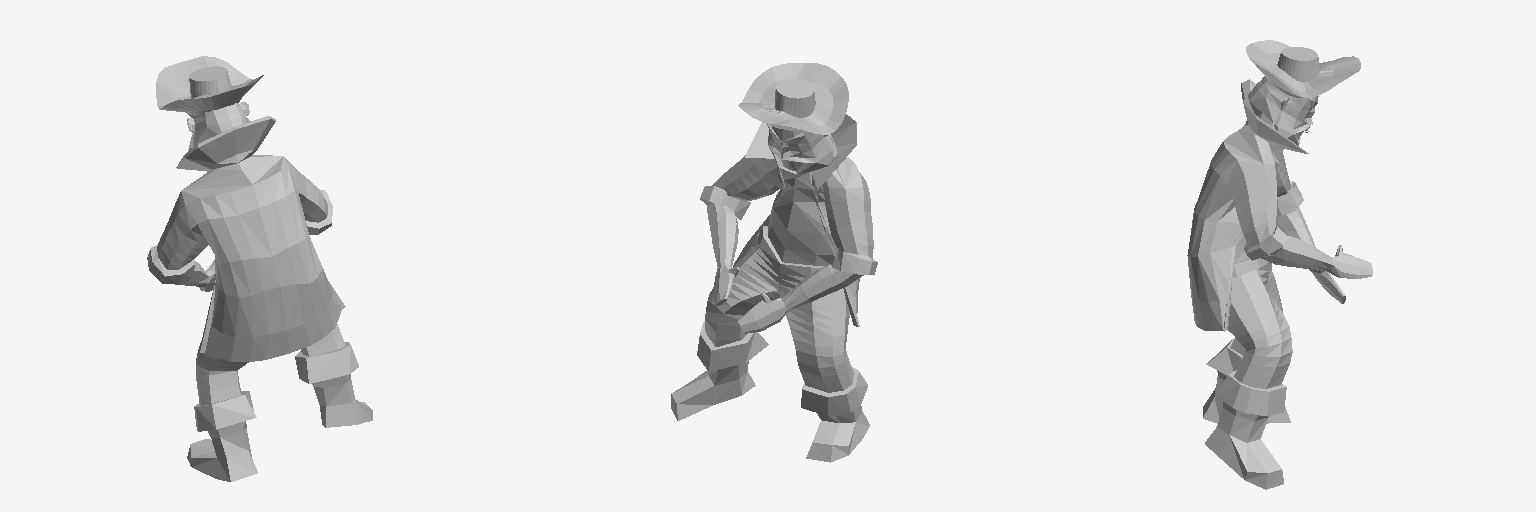
Rendered from pirata_000142.obj.
3 views of the same model, side by side, from view 1: azimuth 30°, elevation 25°; view 2: azimuth 150°, elevation 25°; view 3: azimuth 270°, elevation 25° (orthographic).
Parts seen in each view (by area): view 1: Pirata_PirataH; view 2: Pirata_PirataH; view 3: Pirata_PirataH.
Boxes of the visible parts, <box> form: Pirata_PirataH: <box>147,56,372,481</box>; Pirata_PirataH: <box>671,63,877,462</box>; Pirata_PirataH: <box>1187,40,1372,489</box>.
Bounding box in the file's own units: 5.2 × 9 × 4.01.